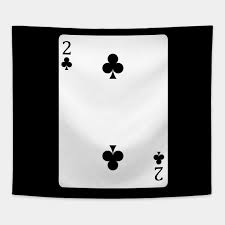two of clubs: (59, 33, 169, 187)
